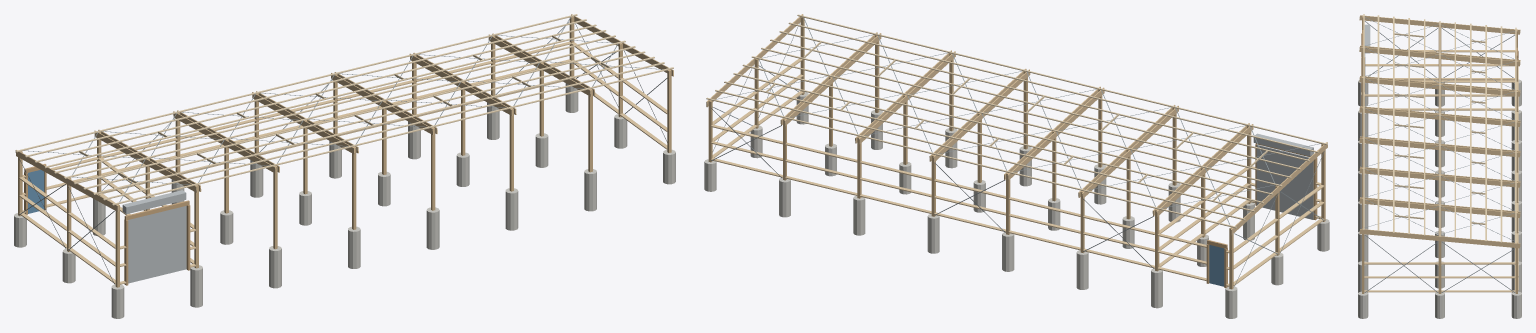
The model's file is skillion-shed-frame.glb.
The picture shows the model from 3 angles, left to right: view 1: azimuth 30°, elevation 25°; view 2: azimuth 150°, elevation 25°; view 3: azimuth 270°, elevation 25°; orthographic projection. The views are drawn at different scales.
Parts seen in each view (by area): view 1: Members mesh (×5), Footings mesh, Columns mesh, Doors mesh (×2), Other mesh; view 2: Members mesh (×5), Footings mesh, Columns mesh, Doors mesh (×2), Other mesh; view 3: Members mesh (×5), Footings mesh, Columns mesh, Other mesh.
Boxes of the visible parts, x1,y1,x2,y2 form: Members mesh (×5): [15, 14, 673, 285]; Footings mesh: [14, 83, 675, 318]; Columns mesh: [18, 16, 671, 287]; Doors mesh (×2): [28, 170, 186, 283]; Other mesh: [122, 190, 186, 214]; Members mesh (×5): [706, 14, 1327, 288]; Footings mesh: [704, 92, 1329, 318]; Columns mesh: [708, 17, 1325, 289]; Doors mesh (×2): [1209, 144, 1313, 286]; Other mesh: [1253, 133, 1313, 156]; Members mesh (×5): [1359, 14, 1520, 292]; Footings mesh: [1358, 79, 1521, 318]; Columns mesh: [1362, 16, 1517, 293]; Other mesh: [1364, 24, 1370, 53].
Size of the model in its own units: 29.99 by 6.14 by 9.59.
